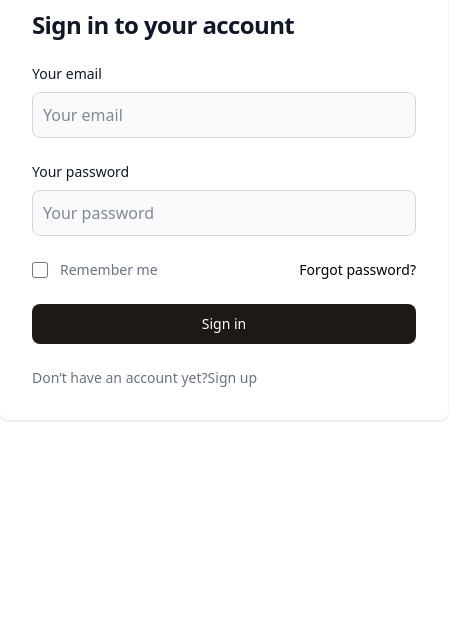
Test: SignInPage › check validation message empty fields SignInPage
The image size is (465, 638).
Click the button "Sign in" at [224, 324], box x1=32 y1=304 x2=416 y2=344
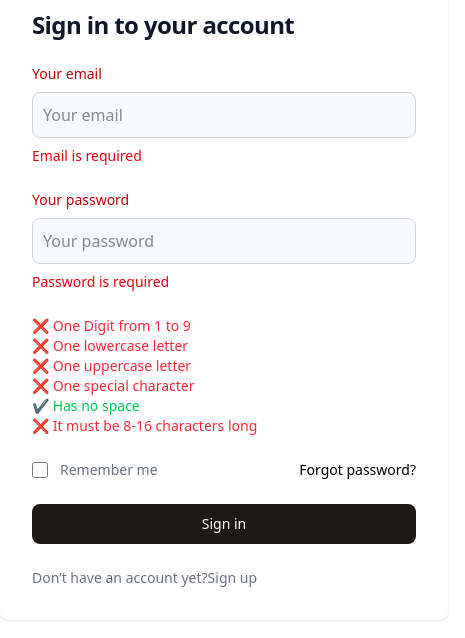
Result: the text "Email is required" is shown at x1=32 y1=146 x2=142 y2=165
Result: the text "Password is required" is shown at x1=32 y1=272 x2=169 y2=291
